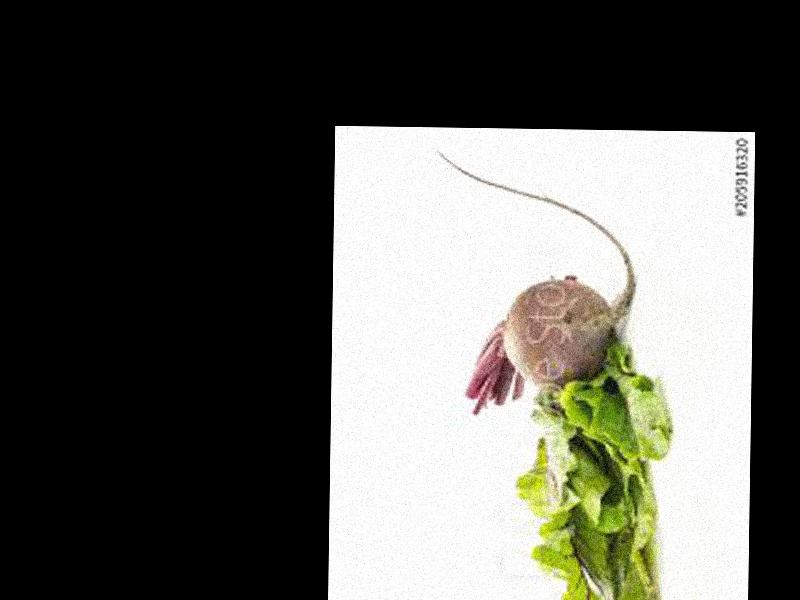Beet: (429, 145, 638, 421)
